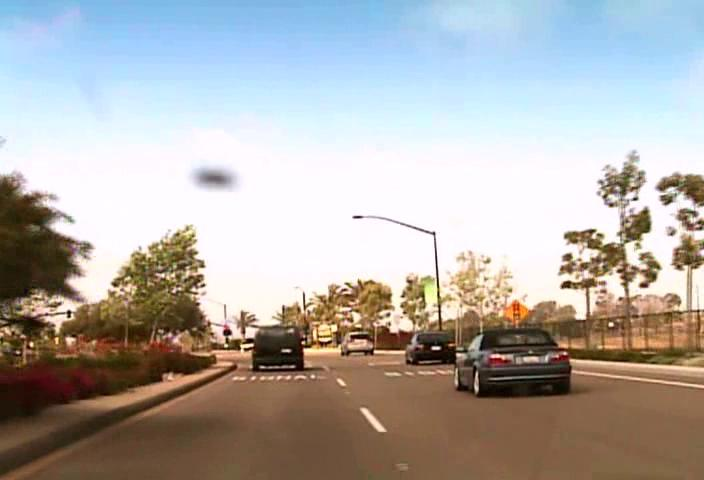signalAhead: (503, 298, 529, 325)
